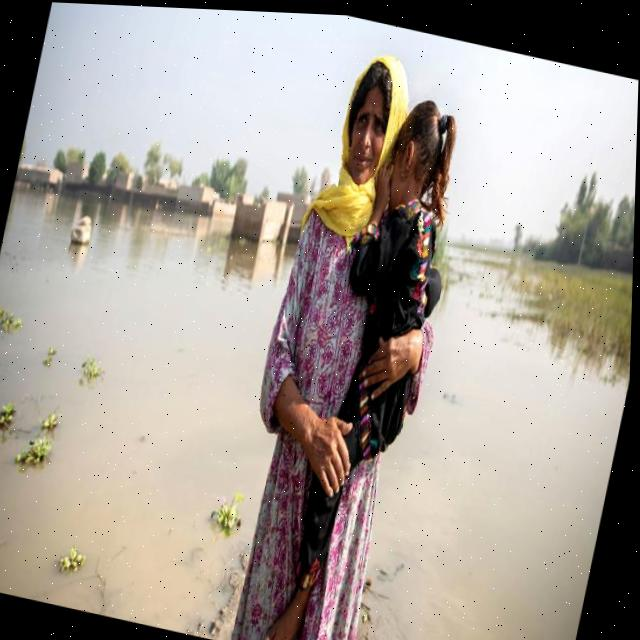civilian: (207, 31, 483, 640), (264, 78, 472, 640)
